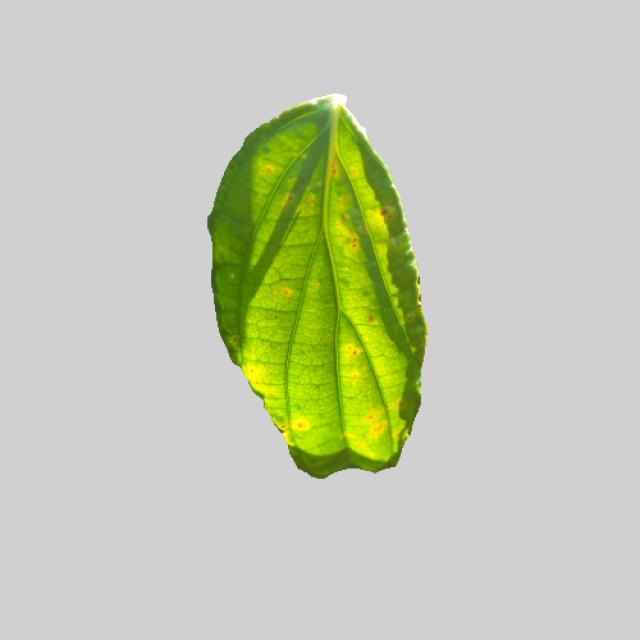yellow-mottle-virus: (190, 94, 437, 476)
